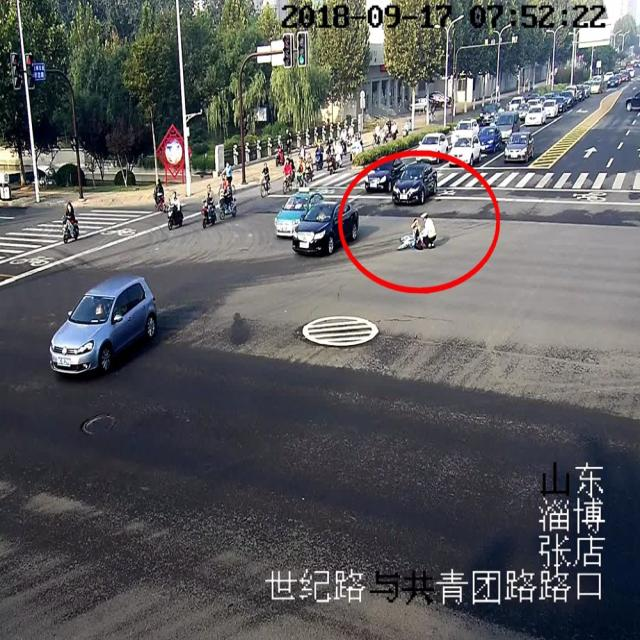10-: (42, 67, 501, 267)
down: (397, 206, 427, 256)
